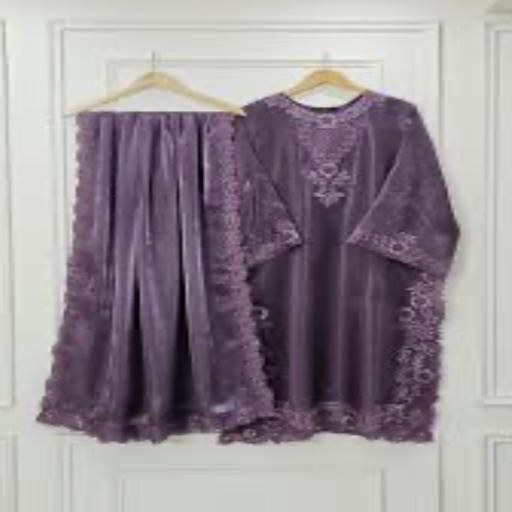Dupatta: (39, 108, 266, 443)
Kameez: (231, 90, 451, 455)
